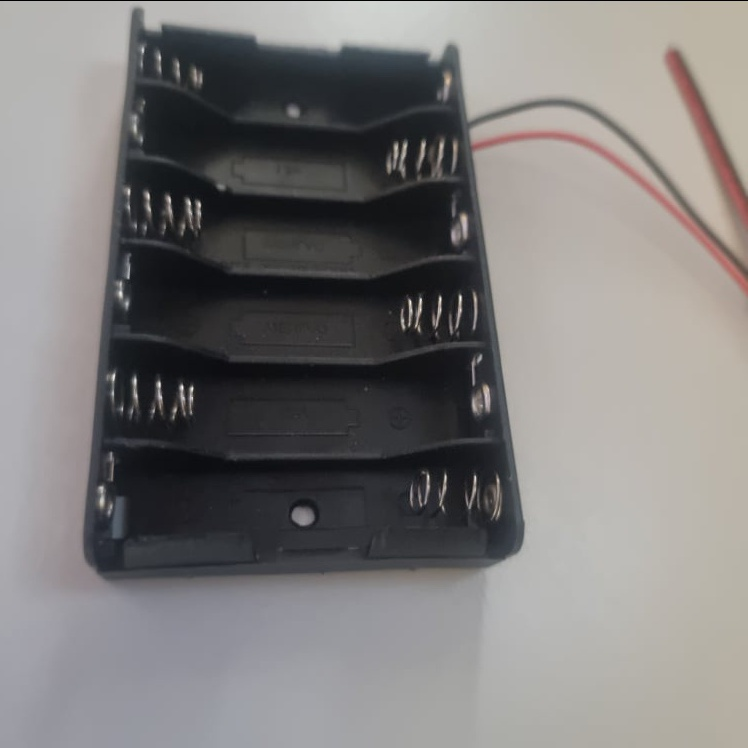BATTERY BOX: (83, 6, 534, 579)
